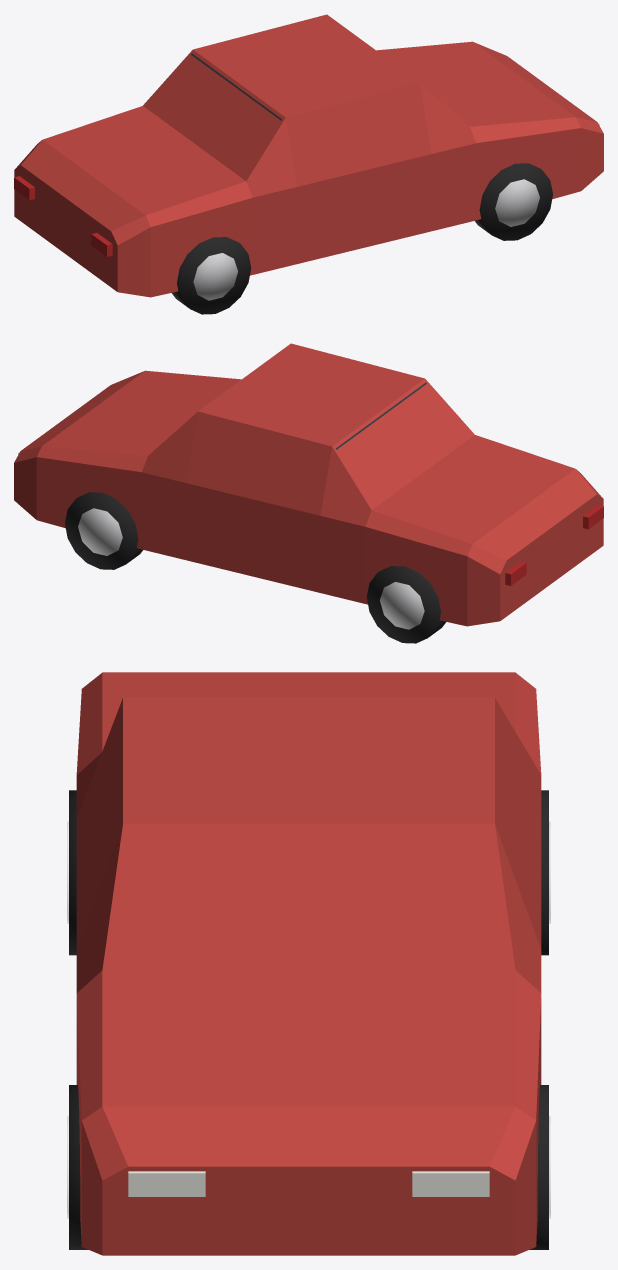
Rendered from car_0.glb.
The picture shows the model from 3 angles, top to bottom: view 1: azimuth 30°, elevation 25°; view 2: azimuth 150°, elevation 25°; view 3: azimuth 270°, elevation 25°; orthographic projection. The views are drawn at different scales.
Visible parts, largest first — view 1: car_0; view 2: car_0; view 3: car_0.
Boxes of the visible parts, x1=… form: car_0: x1=14, y1=14, x2=603, y2=314; car_0: x1=14, y1=343, x2=603, y2=643; car_0: x1=67, y1=672, x2=550, y2=1255.
Size of the model in its own units: 4.42 by 1.44 by 1.87.
